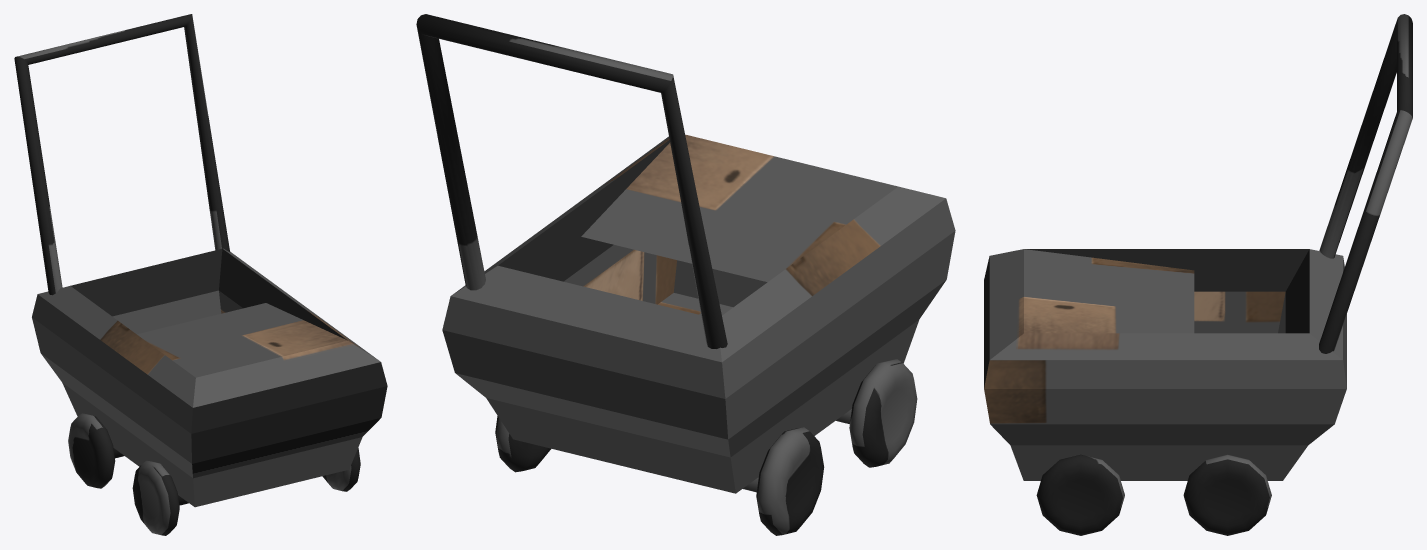
The model's file is trolley-expired.fbx.
3 renders of one model, left to right at view 1: azimuth 30°, elevation 25°; view 2: azimuth 150°, elevation 25°; view 3: azimuth 270°, elevation 25°, orthographic. The views are drawn at different scales.
Visible parts, largest first — view 1: cart; view 2: cart; view 3: cart.
Part boxes in pixels (x1,y1,x2,y2): cart: (14,14,387,535); cart: (416,14,955,535); cart: (984,14,1412,535).
Size of the model in its own units: 0.5952 by 0.3314 by 0.5469.
